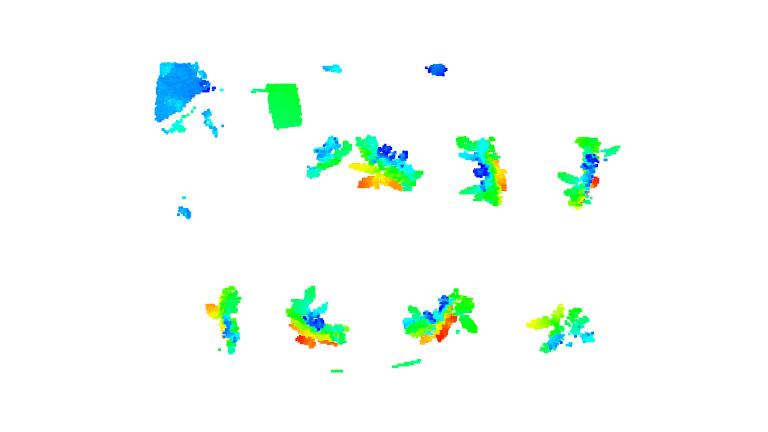chickpea: (348, 132, 424, 196), (400, 287, 481, 345), (556, 136, 615, 208), (453, 134, 510, 207), (285, 285, 350, 349), (525, 303, 598, 356), (204, 286, 248, 356), (302, 133, 354, 180)
